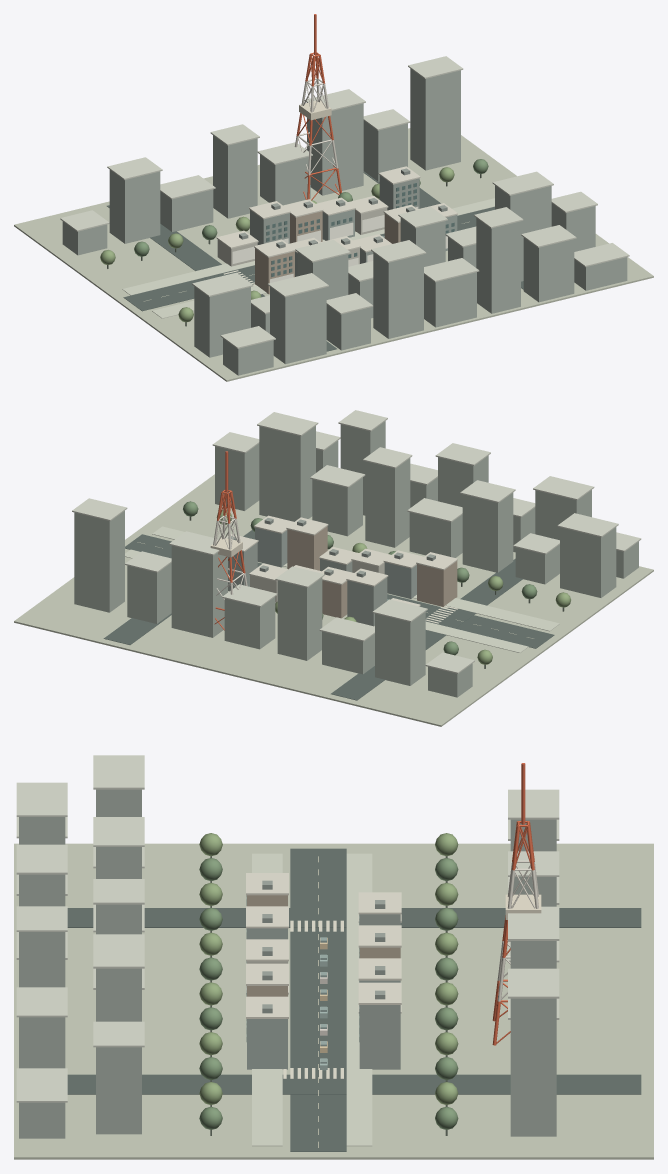
The model's file is mock-city.glb.
3 renders of one model, top to bottom at view 1: azimuth 30°, elevation 25°; view 2: azimuth 150°, elevation 25°; view 3: azimuth 270°, elevation 25°, orthographic. The views are drawn at different scales.
Visible parts, largest first — view 1: Original mock streetscape; view 2: Original mock streetscape; view 3: Original mock streetscape.
Boxes of the visible parts, x1,y1,x2,y2 form: Original mock streetscape: (14, 14, 653, 381); Original mock streetscape: (14, 410, 653, 726); Original mock streetscape: (14, 755, 653, 1159).
Bounding box in the file's own units: 145 × 58.55 × 125.
